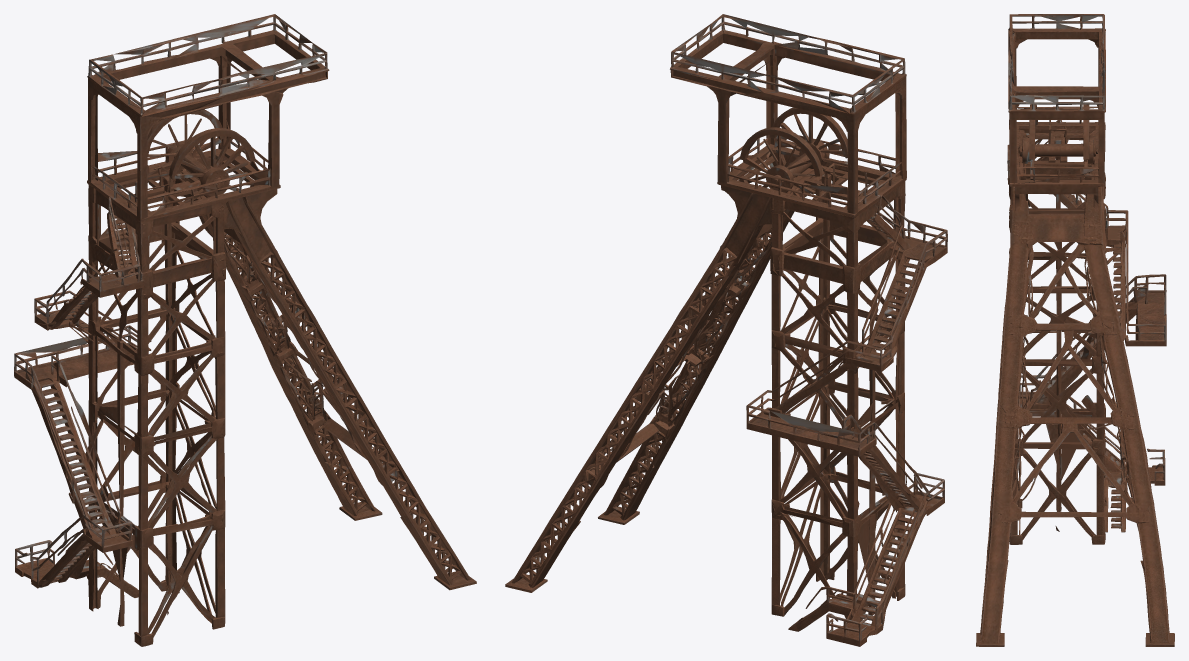
File: lattice_headframe_strut__b.glb
The picture shows the model from 3 angles, left to right: view 1: azimuth 30°, elevation 25°; view 2: azimuth 150°, elevation 25°; view 3: azimuth 270°, elevation 25°; orthographic projection. The views are drawn at different scales.
Size of the model in its own units: 1.3 by 1.9 by 0.6936.
Materials: 1 (1 with a texture image).
